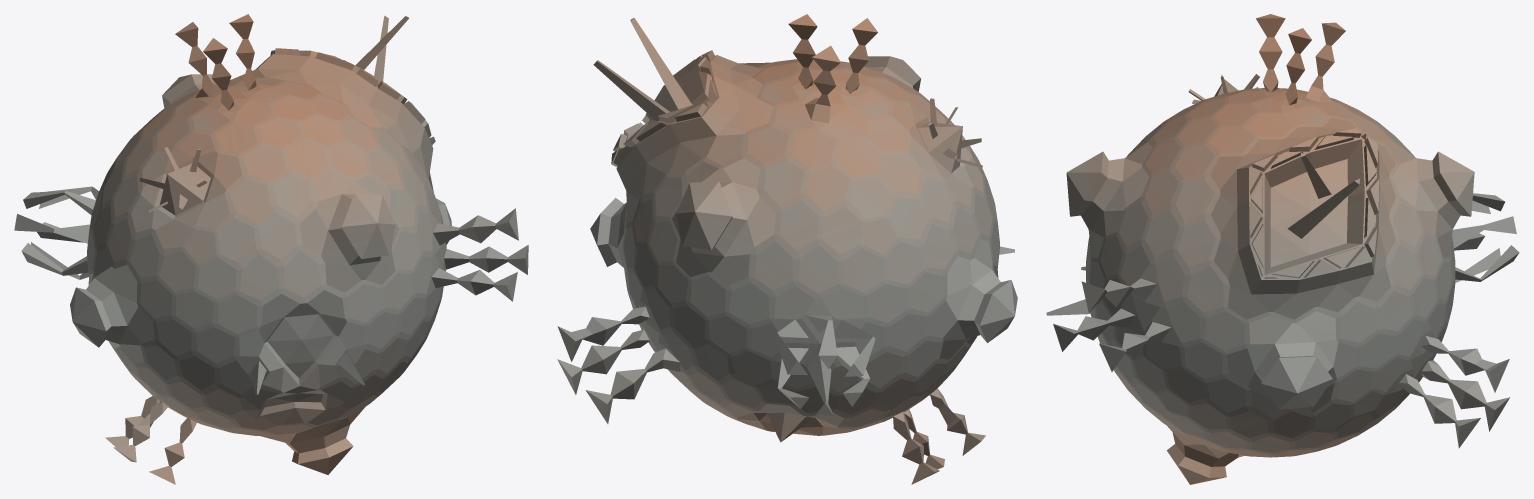
Rendered from Industrial_Planet 1.FBX.
The picture shows the model from 3 angles, left to right: view 1: azimuth 30°, elevation 25°; view 2: azimuth 150°, elevation 25°; view 3: azimuth 270°, elevation 25°; orthographic projection. The views are drawn at different scales.
Visible parts, largest first — view 1: Industrial_Planet; view 2: Industrial_Planet; view 3: Industrial_Planet.
Boxes of the visible parts, x1=… form: Industrial_Planet: x1=14, y1=14, x2=528, y2=484; Industrial_Planet: x1=557, y1=14, x2=1017, y2=484; Industrial_Planet: x1=1046, y1=14, x2=1519, y2=484.
Bounding box in the file's own units: 151 × 153 × 157.
